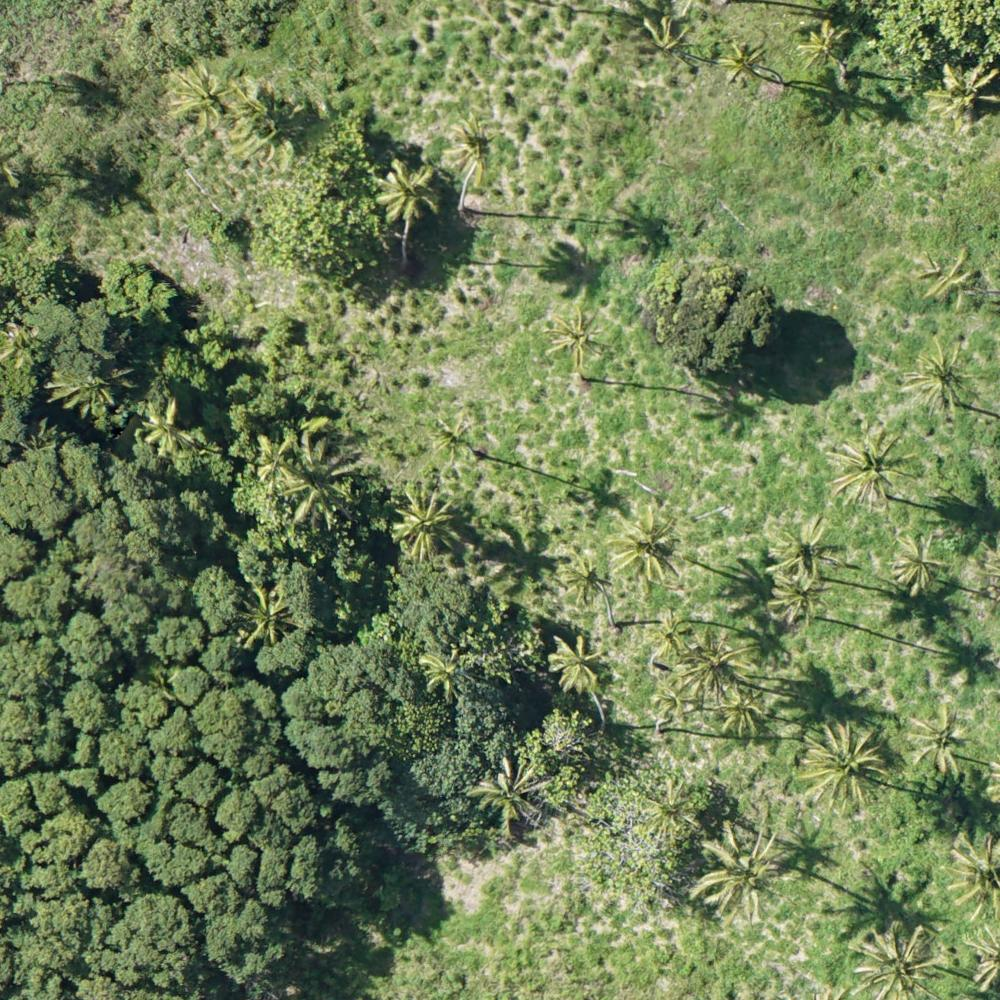Palm: (695, 822, 784, 916), (803, 723, 892, 809), (609, 505, 688, 592), (280, 431, 355, 521), (853, 924, 941, 1000), (235, 76, 309, 156), (905, 340, 980, 417), (832, 430, 904, 509), (476, 759, 548, 826), (392, 490, 456, 561), (768, 517, 841, 577), (911, 704, 970, 775), (235, 583, 300, 646), (934, 60, 1000, 122), (379, 161, 445, 223), (175, 63, 235, 131), (925, 244, 987, 309), (892, 530, 949, 593), (688, 632, 752, 688), (549, 634, 608, 694), (640, 12, 706, 65), (140, 394, 195, 456), (549, 305, 604, 366), (446, 114, 502, 171), (715, 685, 774, 738), (425, 408, 482, 461), (641, 775, 690, 835), (765, 571, 825, 619), (556, 552, 609, 604), (801, 21, 854, 72), (416, 646, 469, 696), (651, 669, 697, 723), (647, 608, 692, 663), (718, 35, 771, 79)
